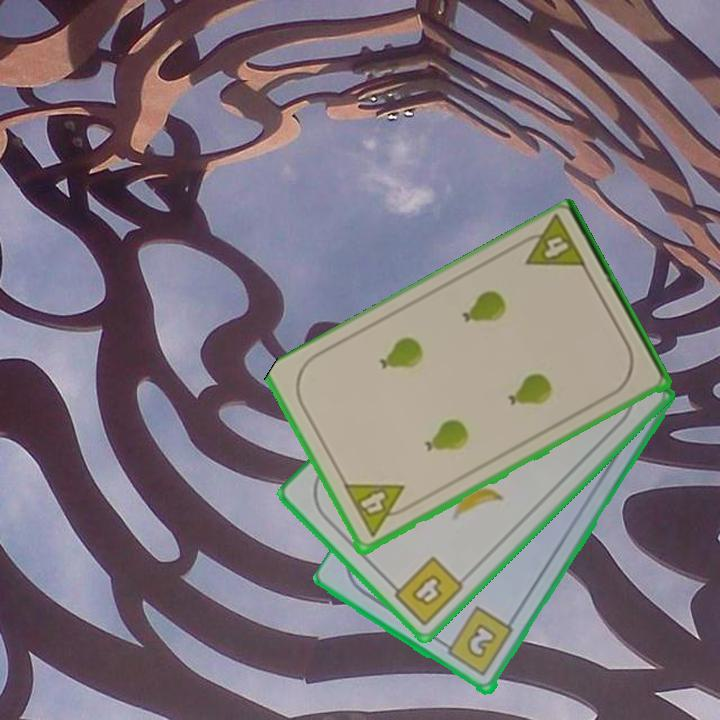2b: (437, 604, 516, 680)
4b: (384, 553, 467, 629)
4p: (512, 213, 590, 274), (341, 480, 415, 541)
